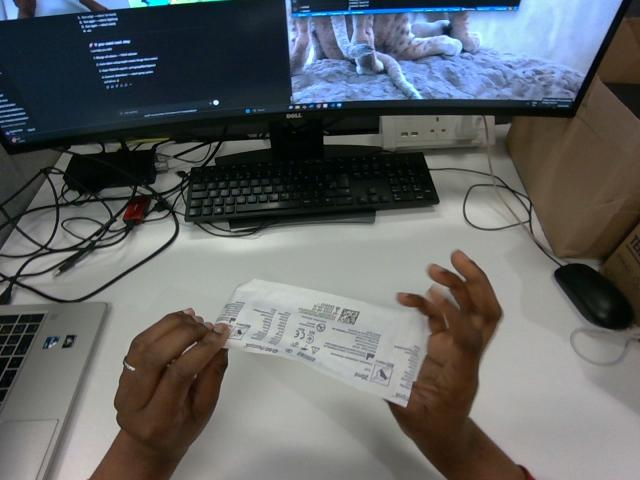syringe: (216, 280, 427, 405)
